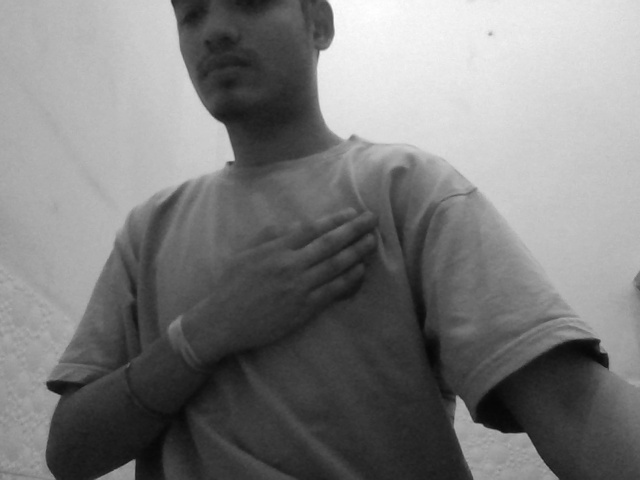Sorry: (167, 196, 417, 393)
